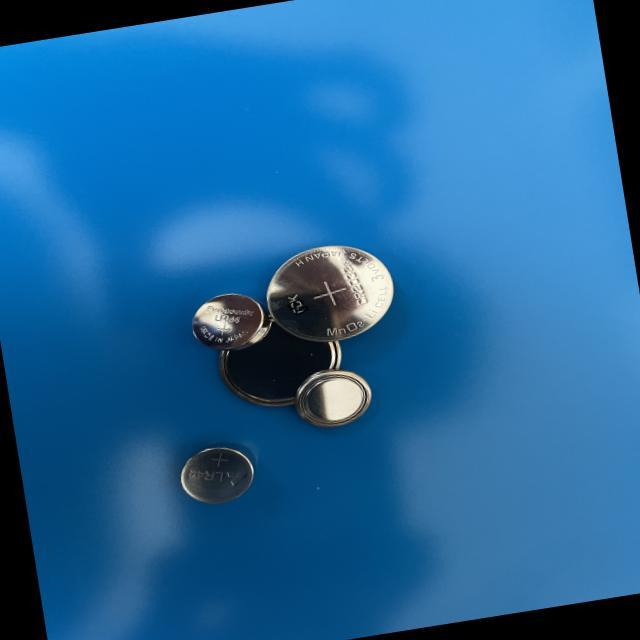COIN: (260, 234, 404, 353), (209, 302, 352, 417), (287, 364, 379, 436), (185, 287, 271, 358), (170, 442, 256, 511)
